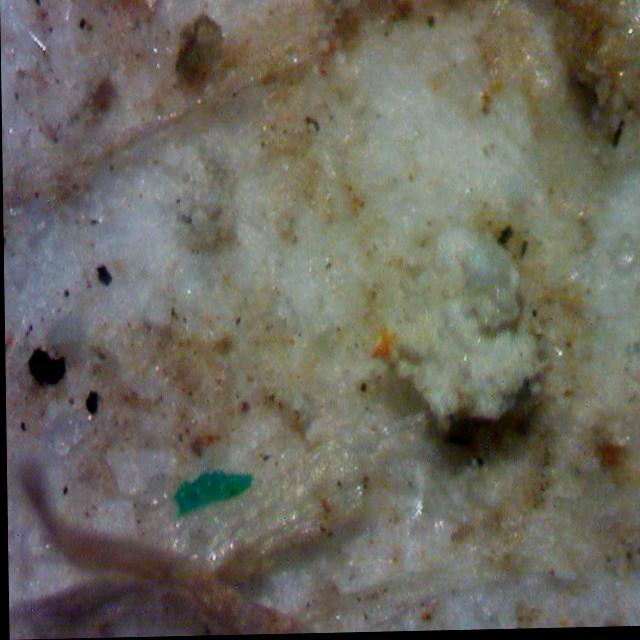microplastic: (171, 468, 250, 518)
